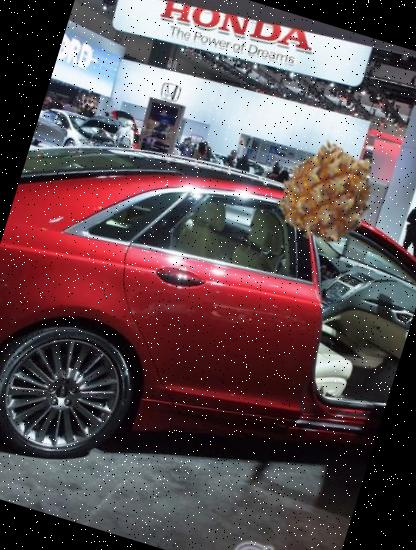Pineapple: (264, 130, 390, 256)
